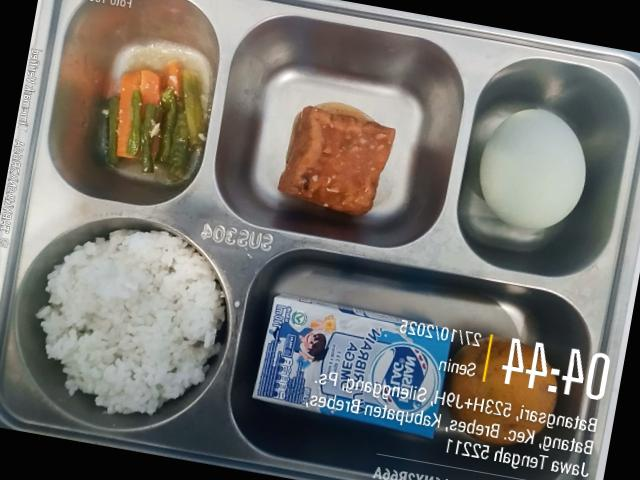buah: (448, 337, 556, 444)
nasi: (36, 229, 224, 414)
sayur: (92, 43, 211, 183)
susu: (252, 294, 449, 437)
tahu: (278, 106, 395, 215)
telur: (479, 109, 585, 229)
